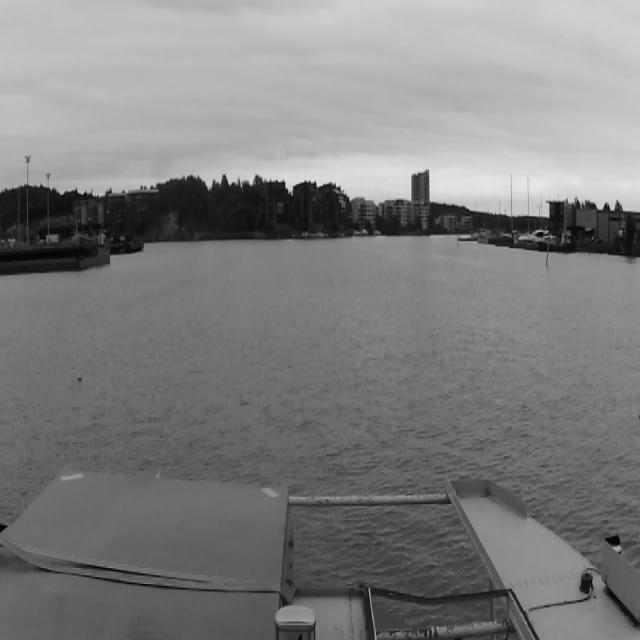buoy: (545, 245, 547, 263)
ship: (518, 230, 554, 244)
